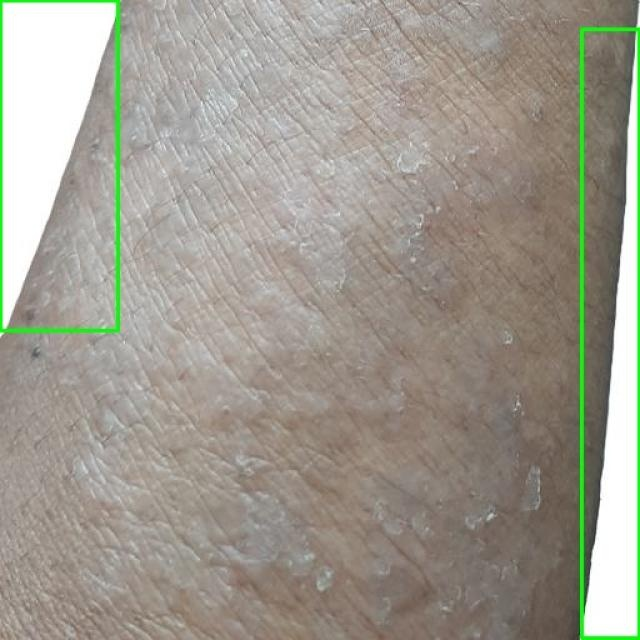Tinea Corporis: (0, 0, 118, 330), (581, 29, 639, 639)
